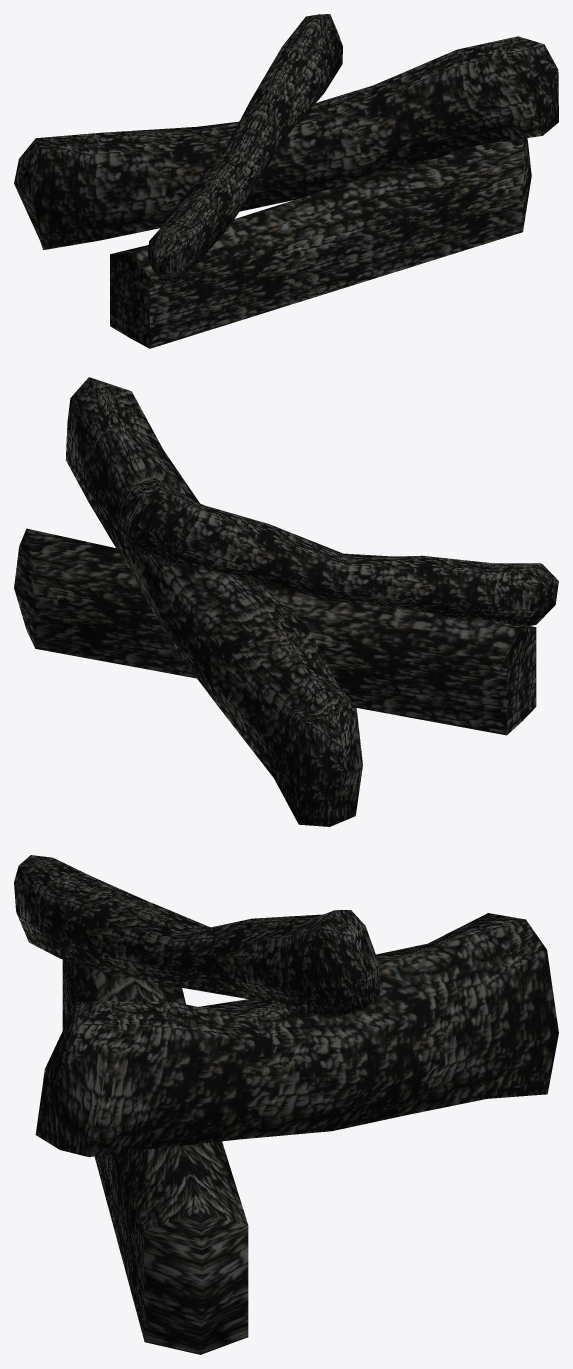
File: INST_SM_BURNTWOODA.fbx
3 renders of one model, top to bottom at view 1: azimuth 30°, elevation 25°; view 2: azimuth 150°, elevation 25°; view 3: azimuth 270°, elevation 25°, orthographic. The views are drawn at different scales.
Visible parts, largest first — view 1: INST_SM_BURNTWOODA; view 2: INST_SM_BURNTWOODA; view 3: INST_SM_BURNTWOODA.
Boxes of the visible parts, bbox=[...] form: INST_SM_BURNTWOODA: bbox=[14, 14, 558, 348]; INST_SM_BURNTWOODA: bbox=[14, 377, 558, 826]; INST_SM_BURNTWOODA: bbox=[14, 855, 558, 1354].
Bounding box in the file's own units: 112750 × 54447 × 78676.
Materials: 1 (1 with a texture image).
